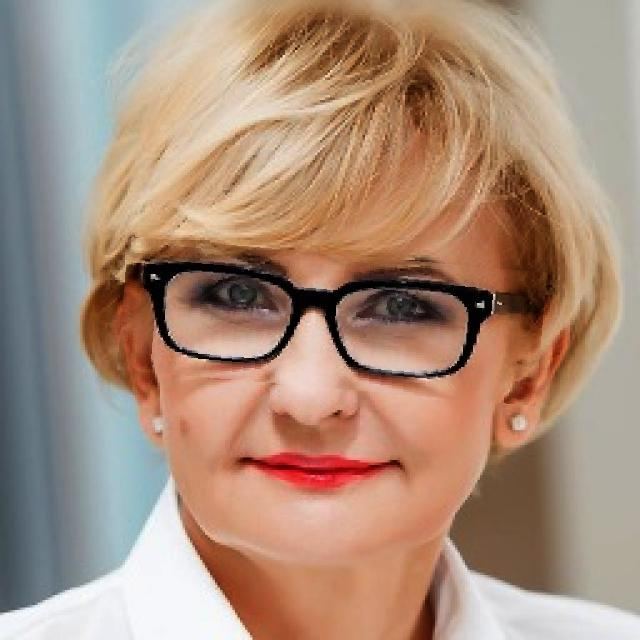glasses: (120, 245, 544, 397)
